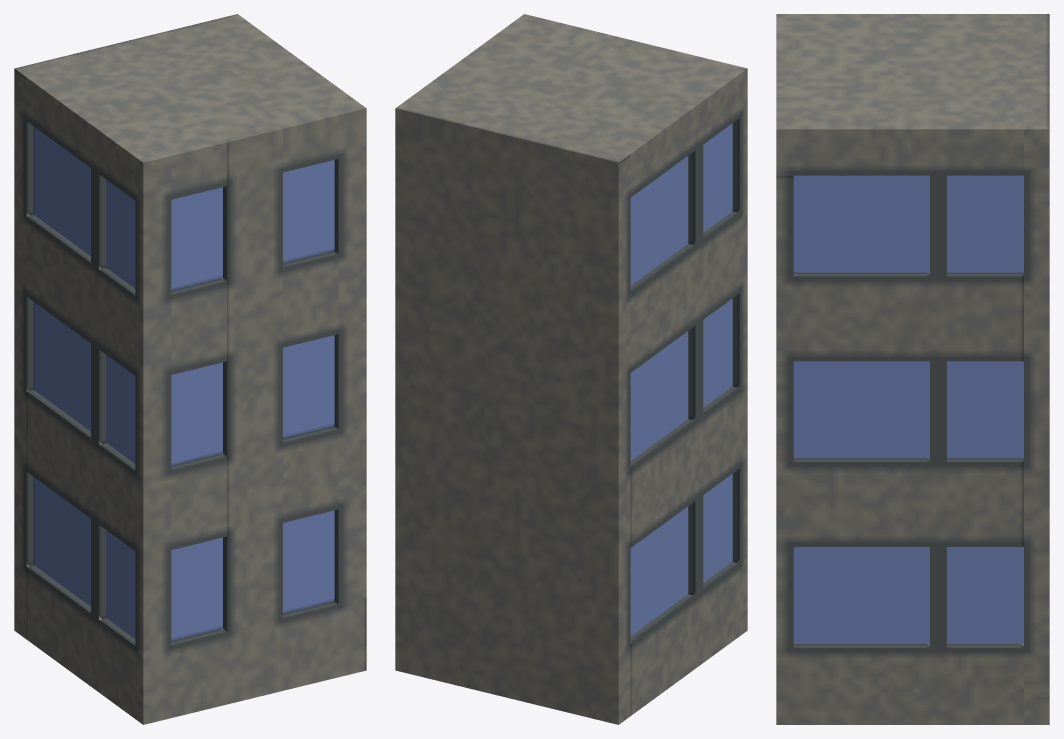
3 renders of one model, left to right at view 1: azimuth 30°, elevation 25°; view 2: azimuth 150°, elevation 25°; view 3: azimuth 270°, elevation 25°, orthographic. The views are drawn at different scales.
Parts seen in each view (by area): view 1: Content; view 2: Content; view 3: Content.
Boxes of the visible parts, x1,y1,x2,y2 form: Content: (14, 14, 366, 724); Content: (395, 14, 747, 724); Content: (776, 14, 1049, 724).
Size of the model in its own units: 32 by 77 by 32.
Materials: 1 (1 with a texture image).
